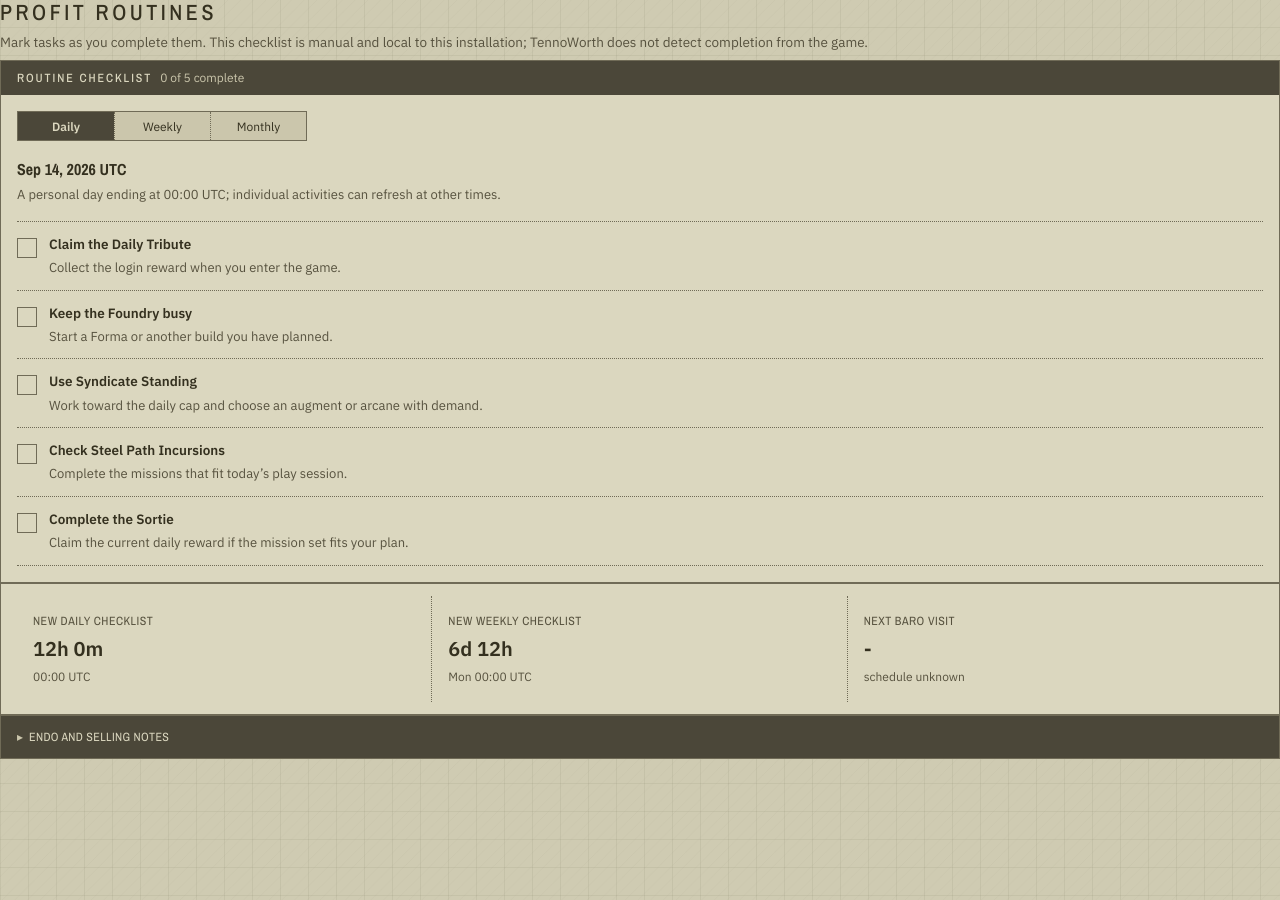
Test case: RoutinesPanel › abandons an edit on cancel
Click the button "Monthly". click: (258, 126)
box: [210,112,306,140]
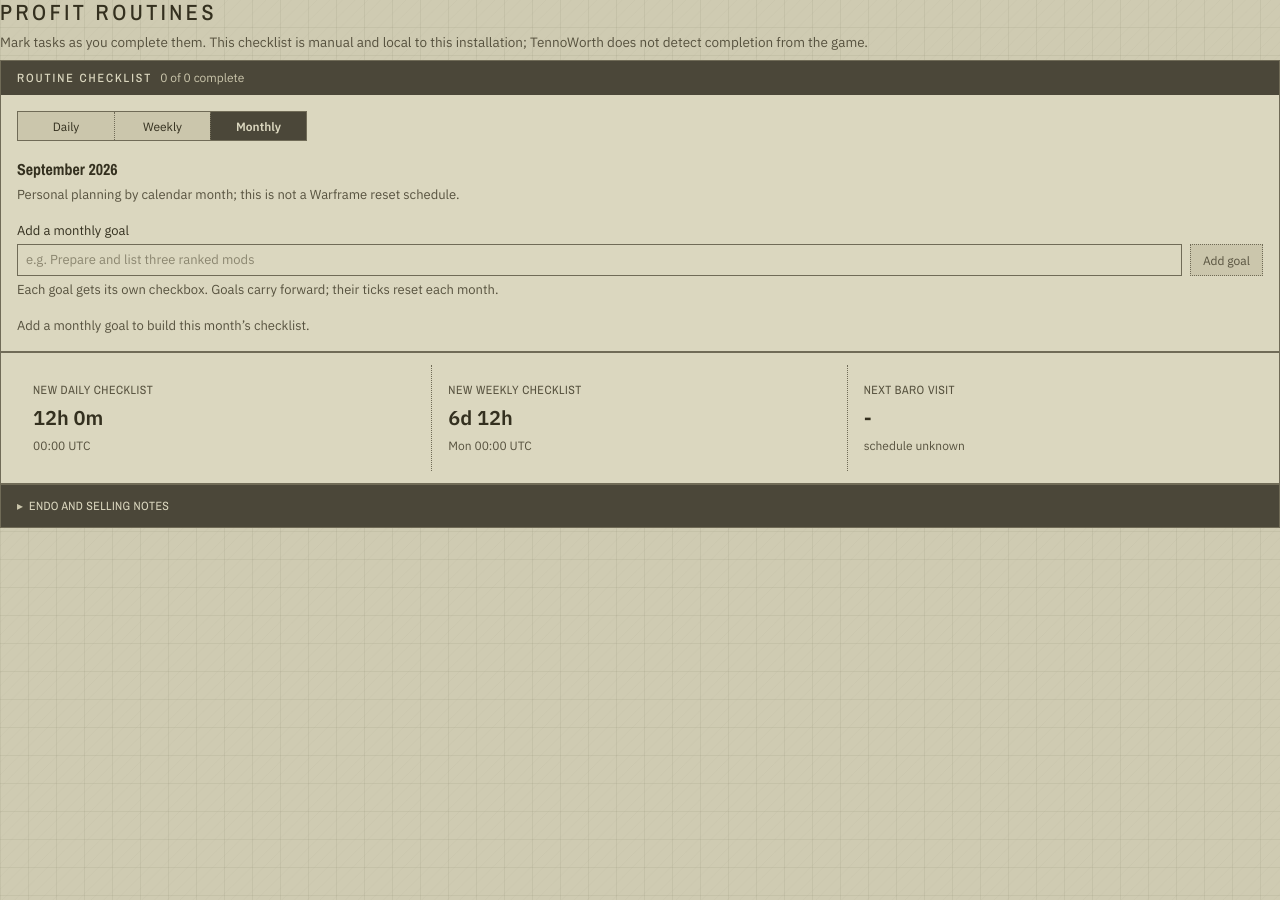
Type "List ranked mods" into the field labelled "Add a monthly goal". click: (599, 260)
box: [17,244,1182,276]
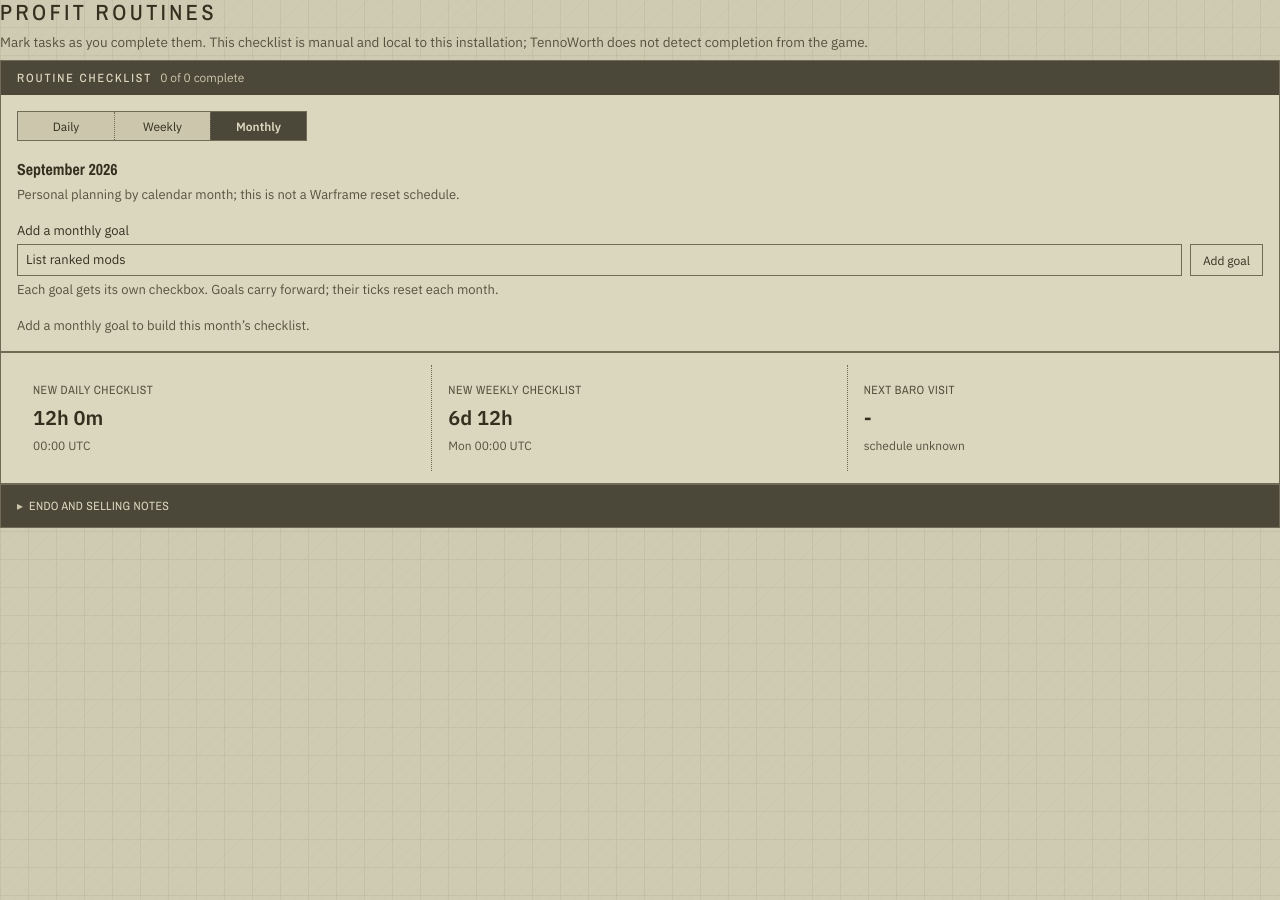
Click the button "Add goal". click: (1226, 260)
box: [1190,244,1263,276]
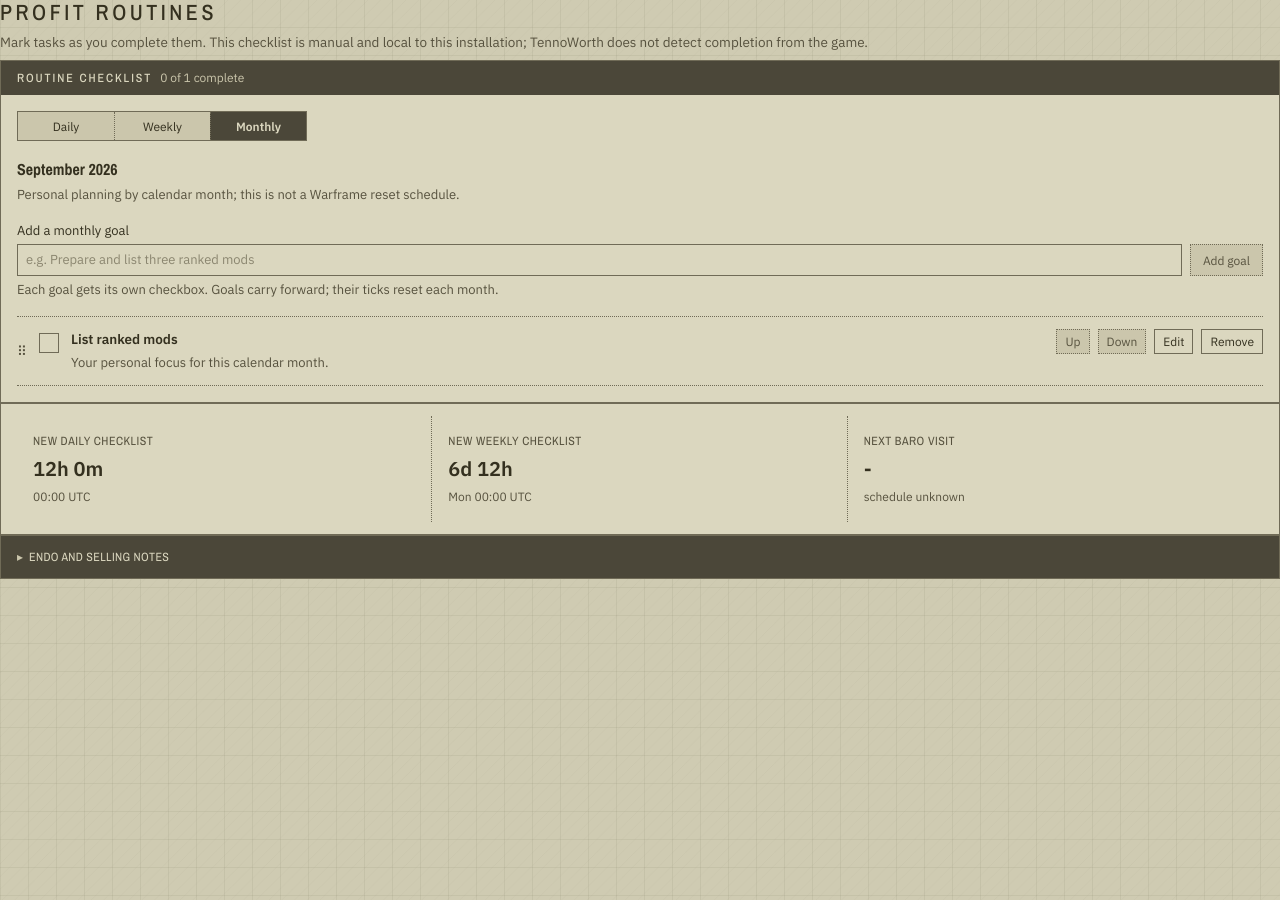
Click the button with aria-label "Edit List ranked mods". click: (1174, 341)
box: [1154,329,1193,354]
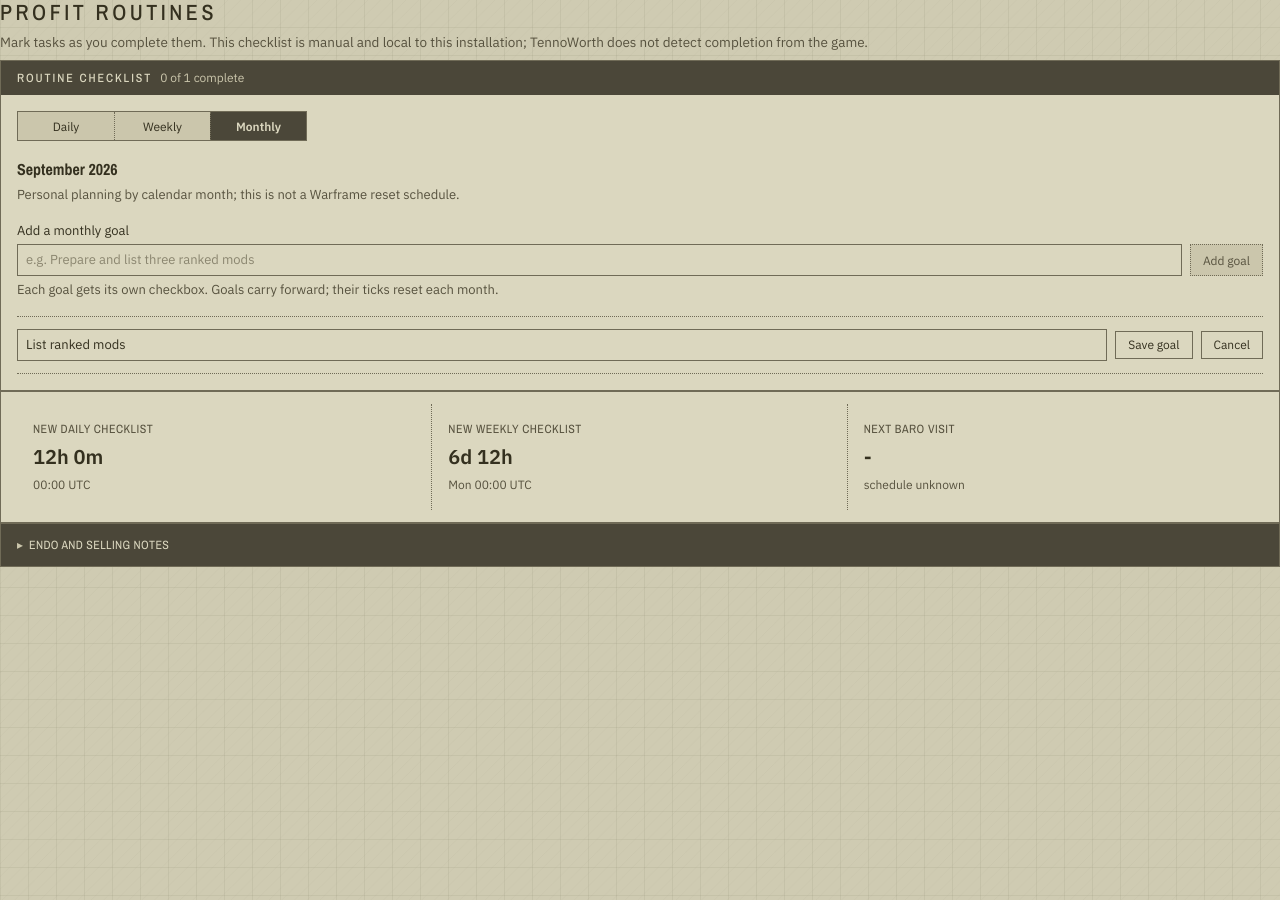
Replace the text in the field named "Goal text" with "Discarded". click: (562, 345)
box: [17,329,1107,361]
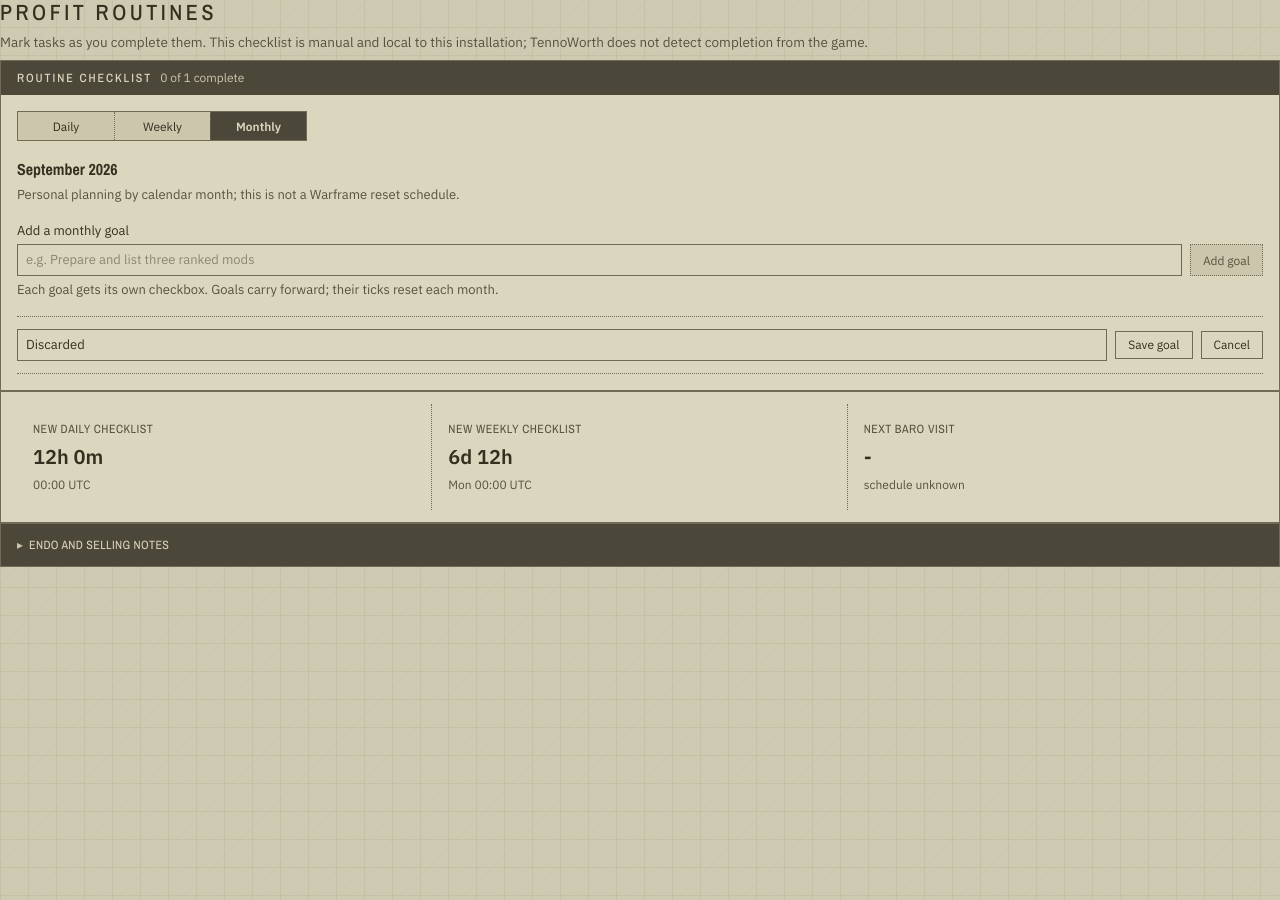
Click the button "Cancel". click: (1232, 345)
box: [1200,331,1263,359]
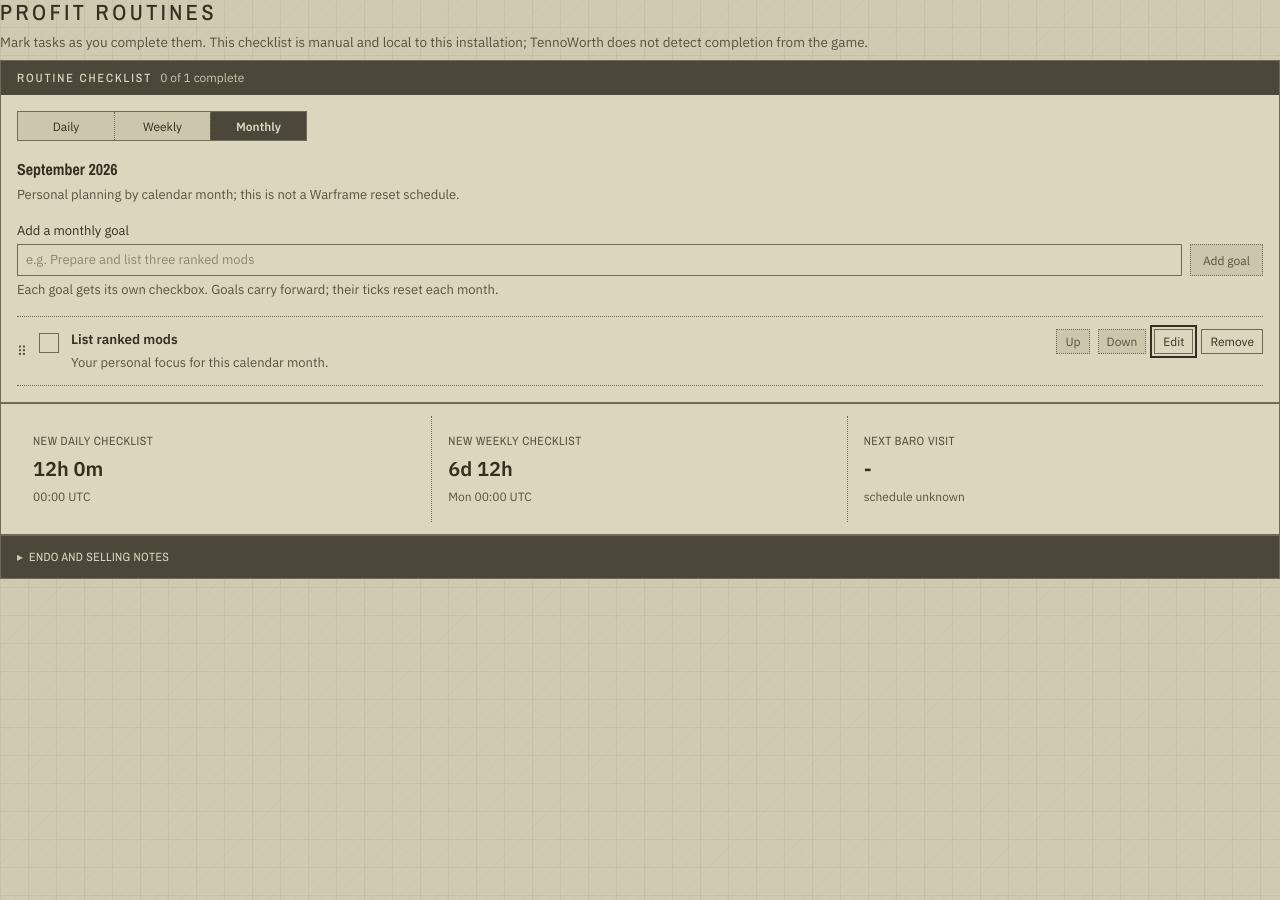
Check: the text "Discarded" is not shown
Check: the checkbox labelled "List ranked mods" is shown, box [39,333,59,353]
